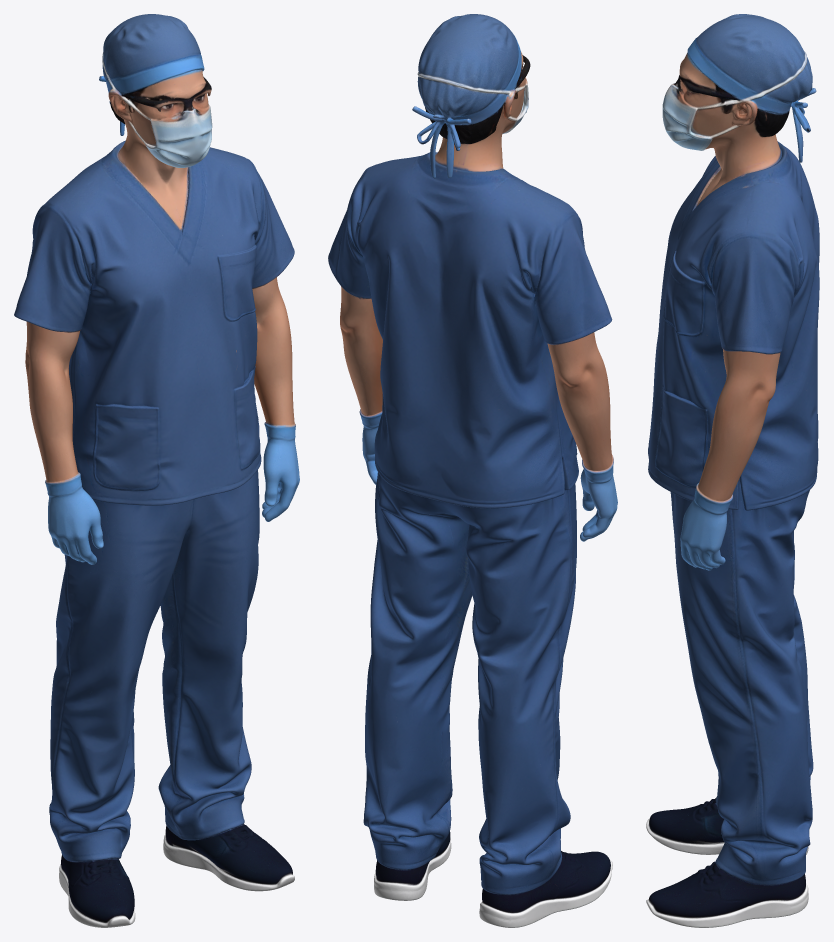
File: Med_Surgeon.fbx
3 views of the same model, side by side, from view 1: azimuth 30°, elevation 25°; view 2: azimuth 150°, elevation 25°; view 3: azimuth 270°, elevation 25° (orthographic).
Visible parts, largest first — view 1: Mesh_0; view 2: Mesh_0; view 3: Mesh_0.
Part boxes in pixels (x1=…): Mesh_0: x1=14, y1=14, x2=299, y2=927; Mesh_0: x1=328, y1=14, x2=617, y2=927; Mesh_0: x1=646, y1=14, x2=819, y2=927.
Bounding box in the file's own units: 64.06 × 190 × 34.78.
Materials: 1 (1 with a texture image).
